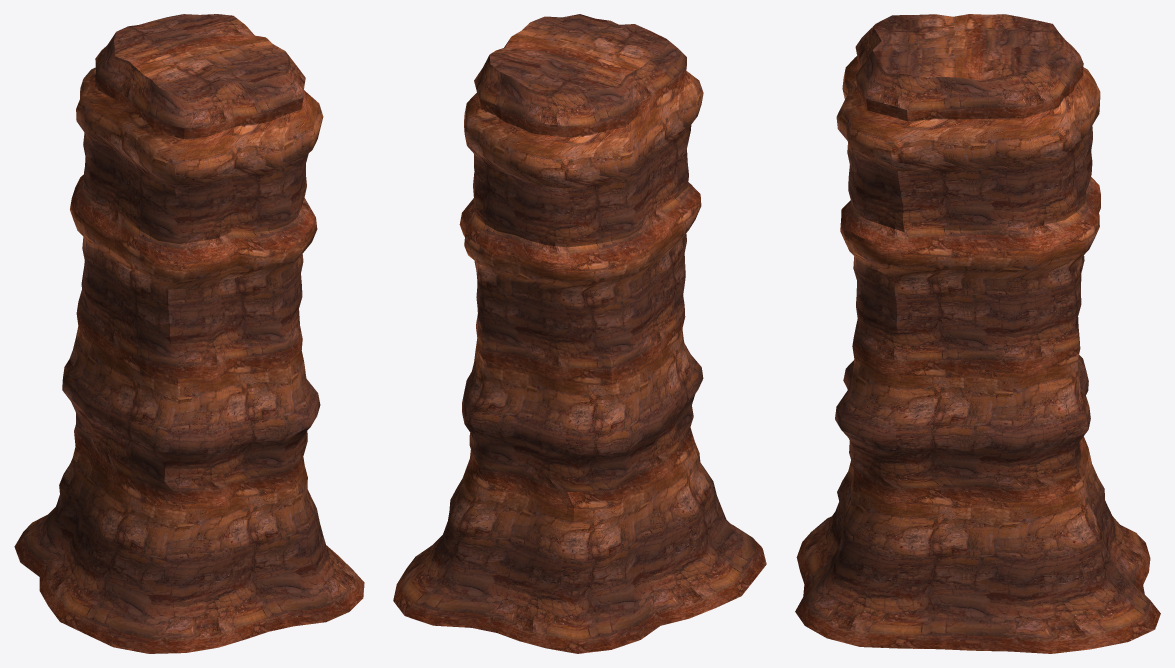
Rendered from canyon_pillar_b.glb.
3 views of the same model, side by side, from view 1: azimuth 30°, elevation 25°; view 2: azimuth 150°, elevation 25°; view 3: azimuth 270°, elevation 25° (orthographic). The views are drawn at different scales.
Parts seen in each view (by area): view 1: canyon_pillar_b; view 2: canyon_pillar_b; view 3: canyon_pillar_b.
Boxes of the visible parts, bbox=[...] form: canyon_pillar_b: bbox=[14, 14, 364, 653]; canyon_pillar_b: bbox=[393, 14, 766, 653]; canyon_pillar_b: bbox=[795, 14, 1160, 653].
Size of the model in its own units: 17.04 by 30.28 by 18.31.
Materials: 1 (1 with a texture image).
